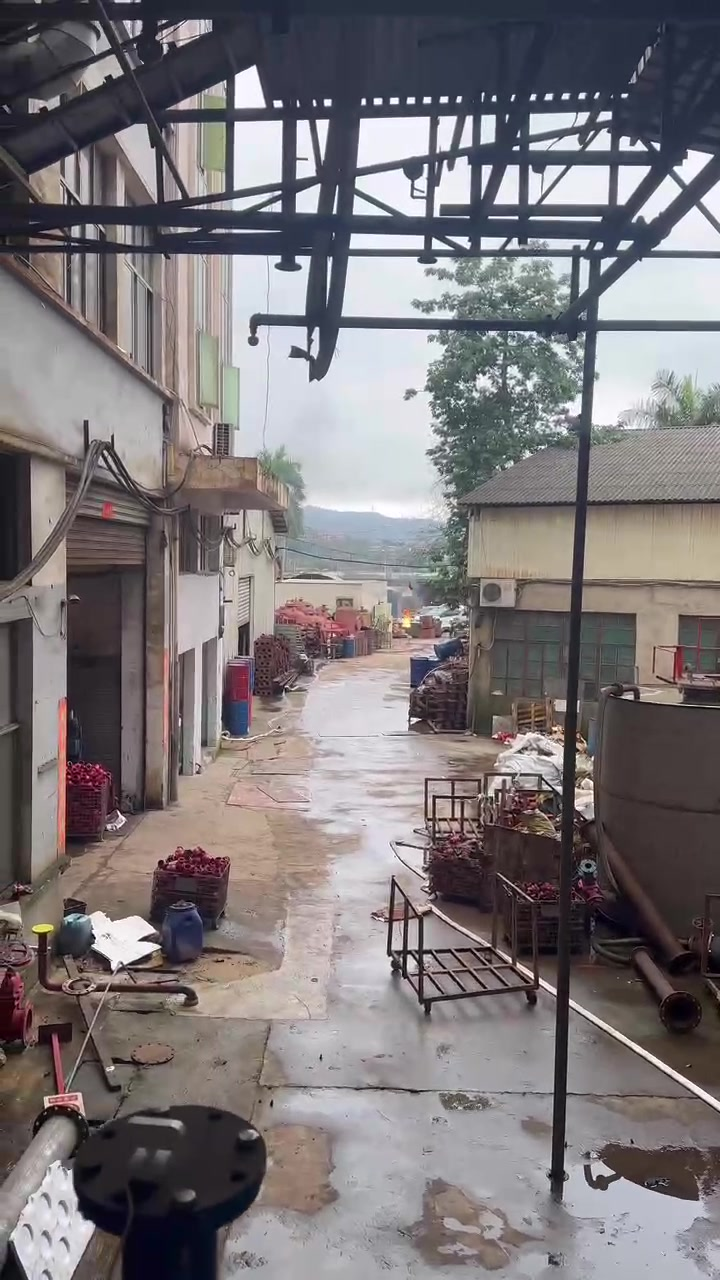fire: (402, 608, 410, 627)
